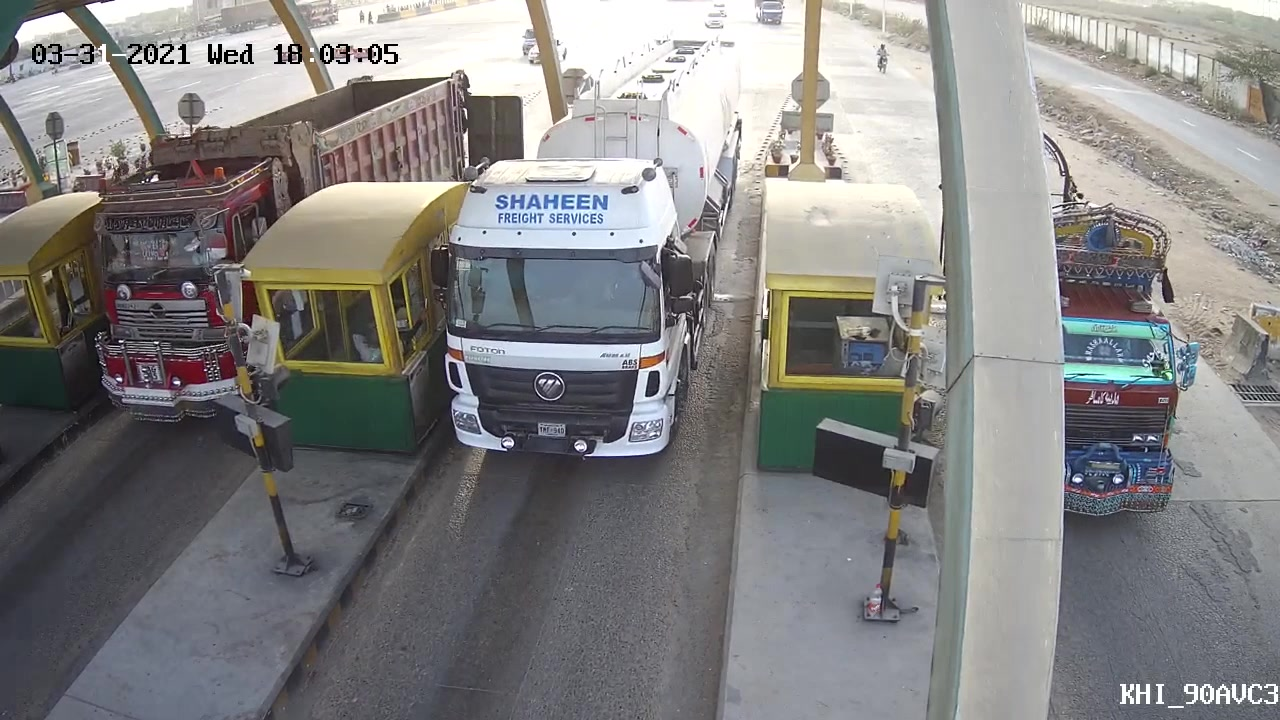F6: (434, 36, 748, 477)
